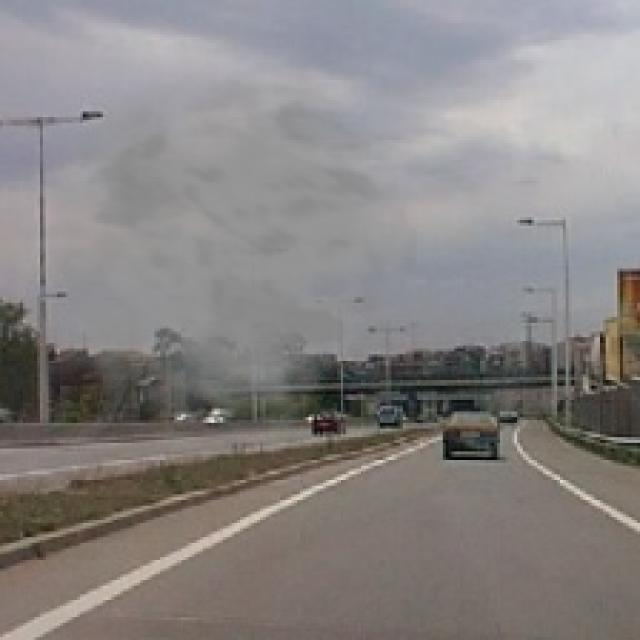smoke: (6, 63, 423, 448)
